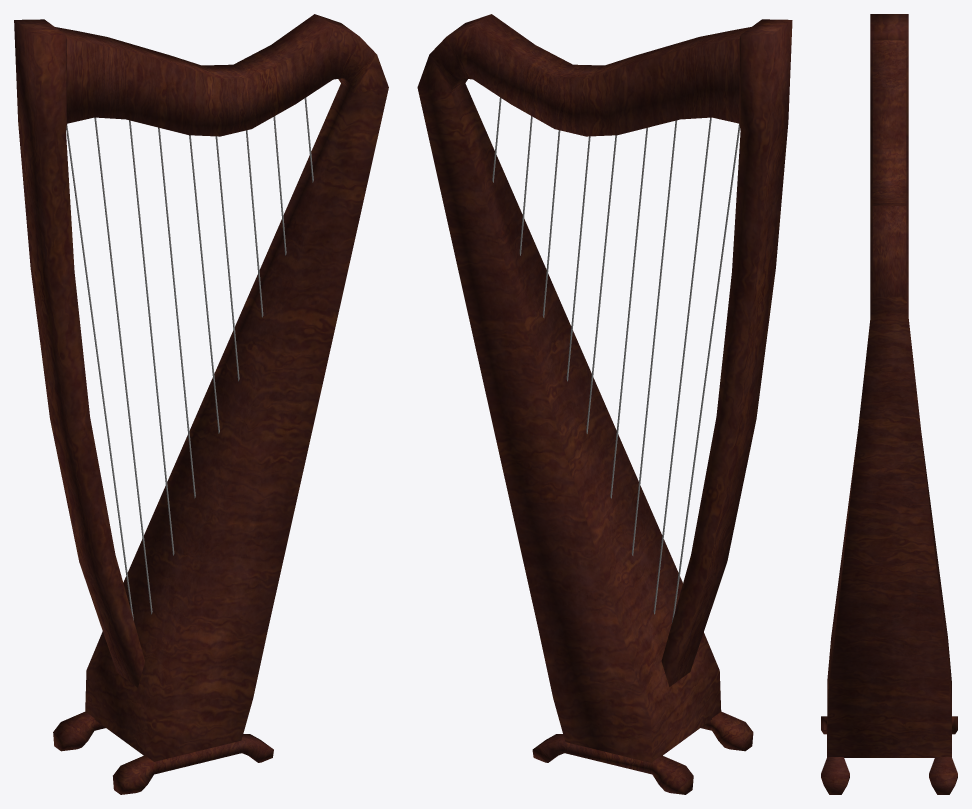
Rendered from Harp.fbx.
The picture shows the model from 3 angles, left to right: view 1: azimuth 30°, elevation 25°; view 2: azimuth 150°, elevation 25°; view 3: azimuth 270°, elevation 25°; orthographic projection. The views are drawn at different scales.
Visible parts, largest first — view 1: Harp; view 2: Harp; view 3: Harp.
Part boxes in pixels (x1=…): Harp: x1=14, y1=14, x2=388, y2=794; Harp: x1=417, y1=14, x2=792, y2=794; Harp: x1=821, y1=14, x2=957, y2=794.
Bounding box in the file's own units: 44.59 × 90.99 × 16.46.
